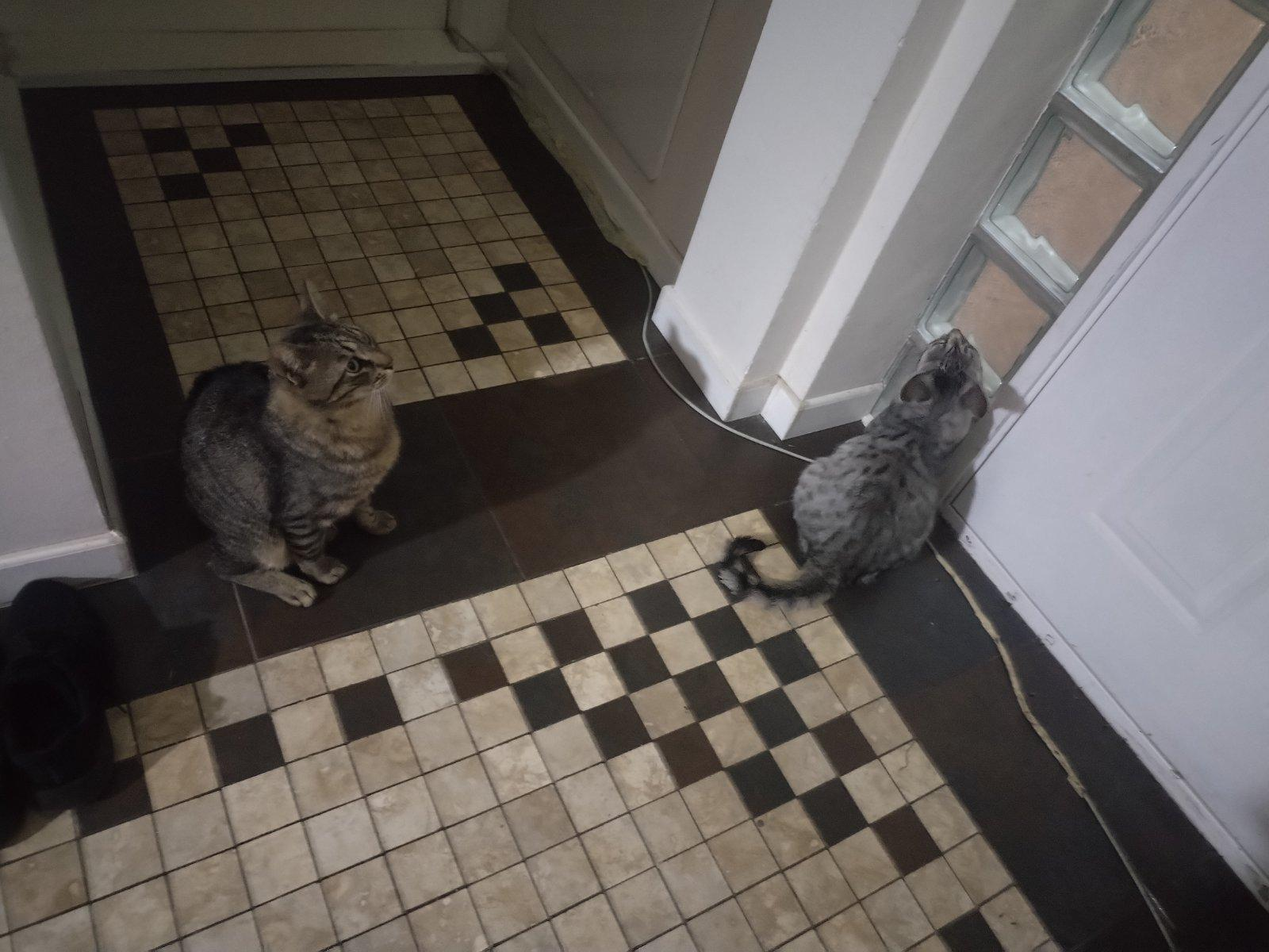macka: (176, 280, 404, 611), (728, 327, 991, 603)
